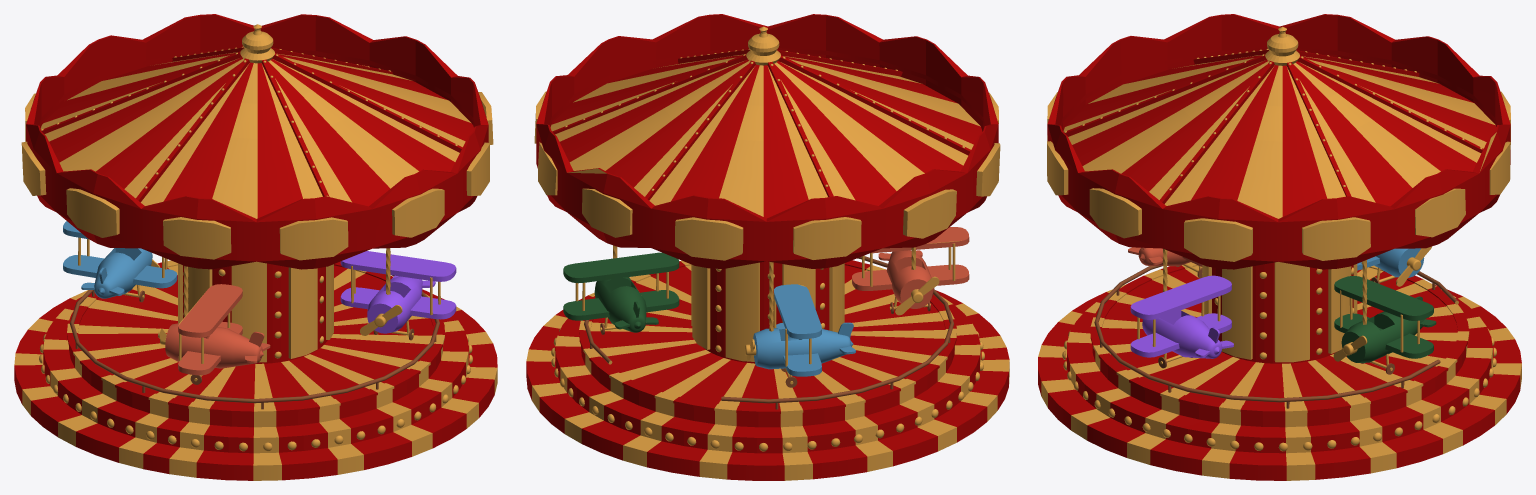
The model's file is F_MerryGoRound.fbx.
3 views of the same model, side by side, from view 1: azimuth 30°, elevation 25°; view 2: azimuth 150°, elevation 25°; view 3: azimuth 270°, elevation 25° (orthographic).
Visible parts, largest first — view 1: F_MerryGoRound_01; view 2: F_MerryGoRound_01; view 3: F_MerryGoRound_01.
Part boxes in pixels (bbox=[...]): F_MerryGoRound_01: bbox=[14, 14, 497, 480]; F_MerryGoRound_01: bbox=[526, 14, 1009, 480]; F_MerryGoRound_01: bbox=[1038, 14, 1521, 480].
Size of the model in its own units: 1654 by 1332 by 1653.
